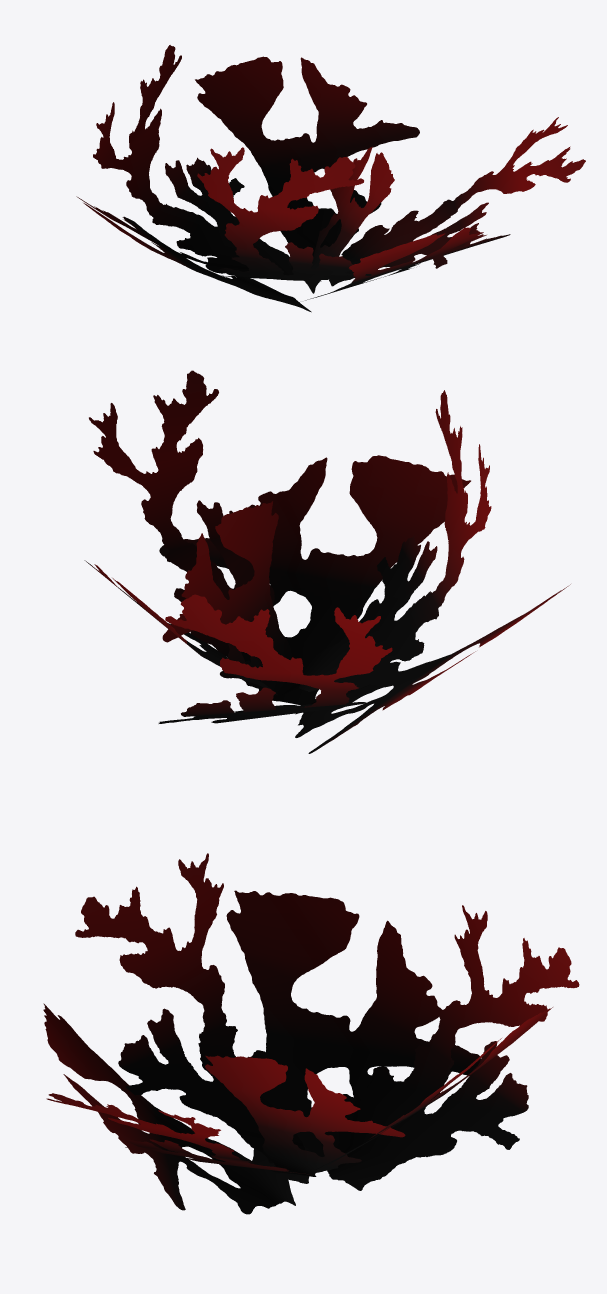
Rendered from CoralNew.fbx.
3 renders of one model, top to bottom at view 1: azimuth 30°, elevation 25°; view 2: azimuth 150°, elevation 25°; view 3: azimuth 270°, elevation 25°, orthographic. The views are drawn at different scales.
Parts seen in each view (by area): view 1: Ting_LOD0; view 2: Ting_LOD0; view 3: Ting_LOD0.
Boxes of the visible parts, x1,y1,x2,y2 form: Ting_LOD0: [76, 45, 585, 312]; Ting_LOD0: [84, 370, 570, 753]; Ting_LOD0: [43, 853, 579, 1214].
Size of what is drawn, in the model's own units: 184 by 95.09 by 163.
